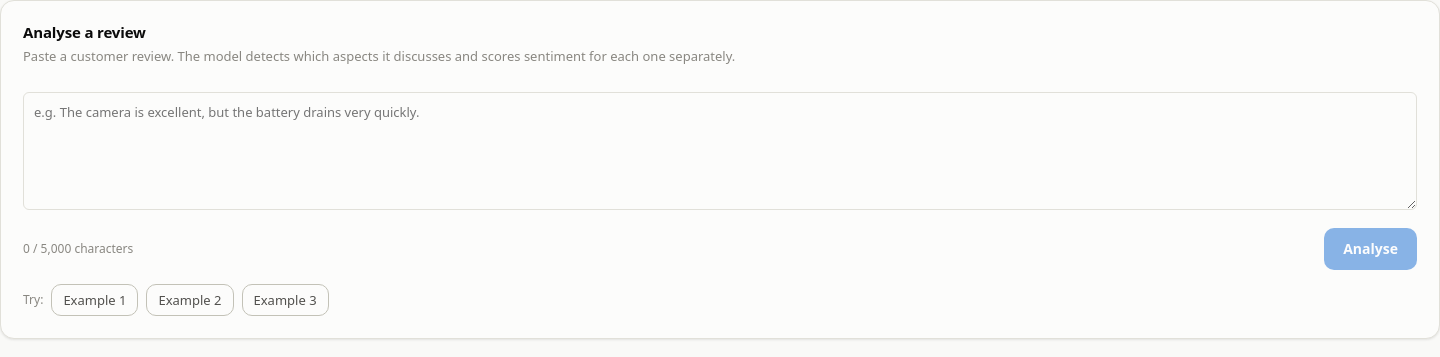
Test: submission › disables the button until there is text
Check: the button "Analyse" is disabled, box left=1324, top=228, right=1417, bottom=270
Type "Great camera" into the text box named "review text".
click(720, 151); type("Great camera")  # box left=23, top=92, right=1417, bottom=210
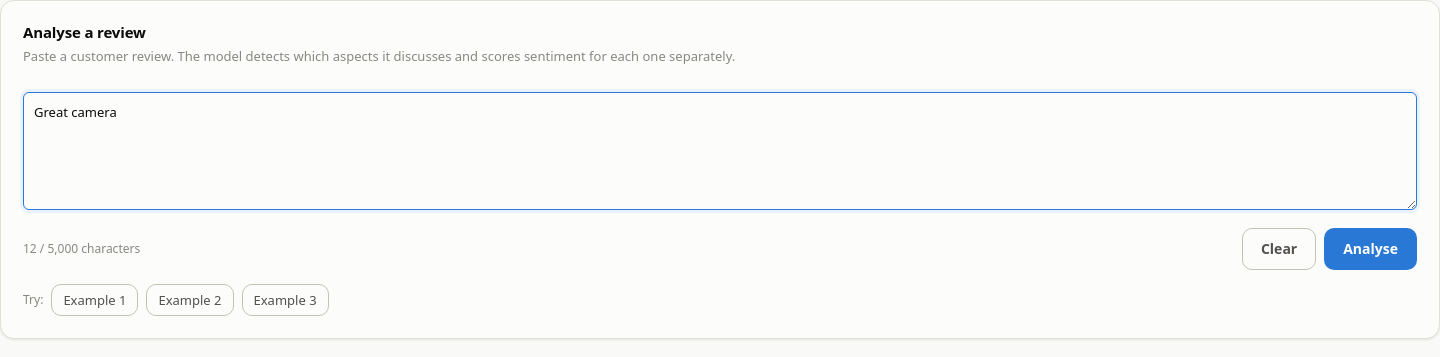
Check: the button "Analyse" is enabled, box left=1324, top=228, right=1417, bottom=270
